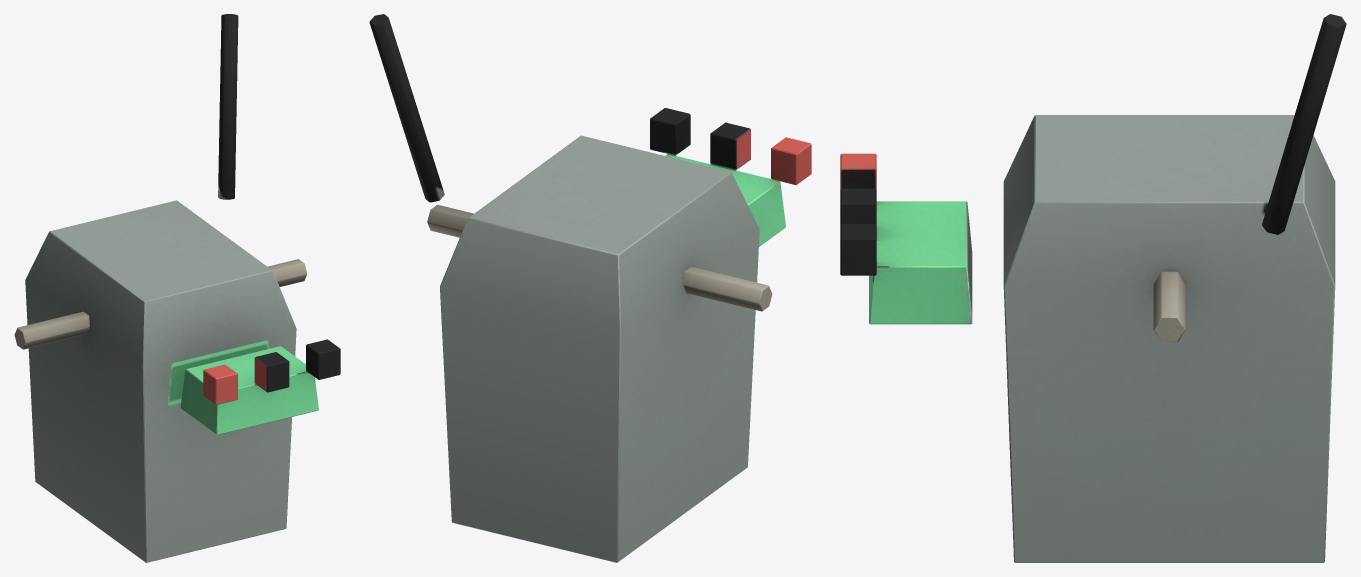
The model's file is IT_geiger.glb.
3 renders of one model, left to right at view 1: azimuth 30°, elevation 25°; view 2: azimuth 150°, elevation 25°; view 3: azimuth 270°, elevation 25°, orthographic. The views are drawn at different scales.
Visible parts, largest first — view 1: IT_geiger; view 2: IT_geiger; view 3: IT_geiger.
Part boxes in pixels (x1,y1,x2,y2): IT_geiger: [14, 14, 340, 562]; IT_geiger: [369, 14, 811, 562]; IT_geiger: [840, 14, 1346, 562].
Size of the model in its own units: 0.44 by 0.6226 by 0.4883.
1 material, 1 textured.
